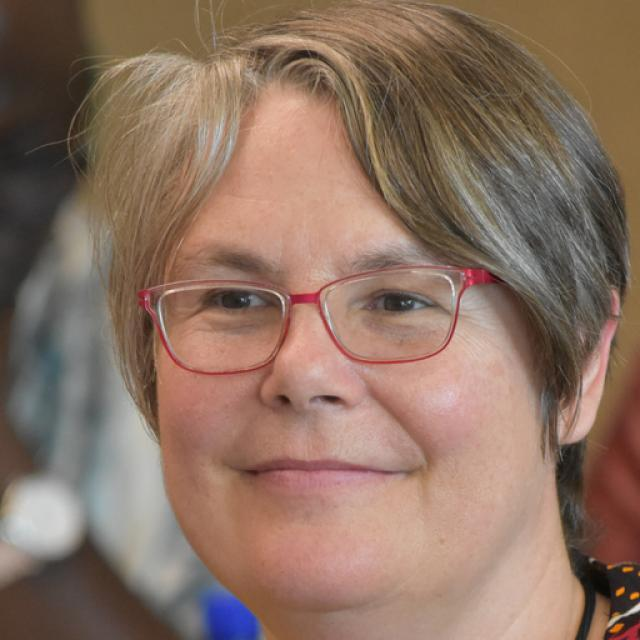happy: (150, 88, 548, 610)
